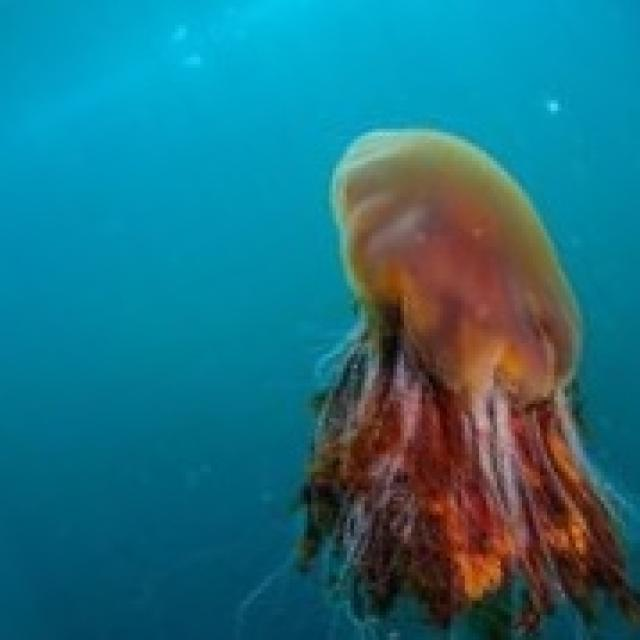Box-jellyfish: (254, 121, 636, 636)
